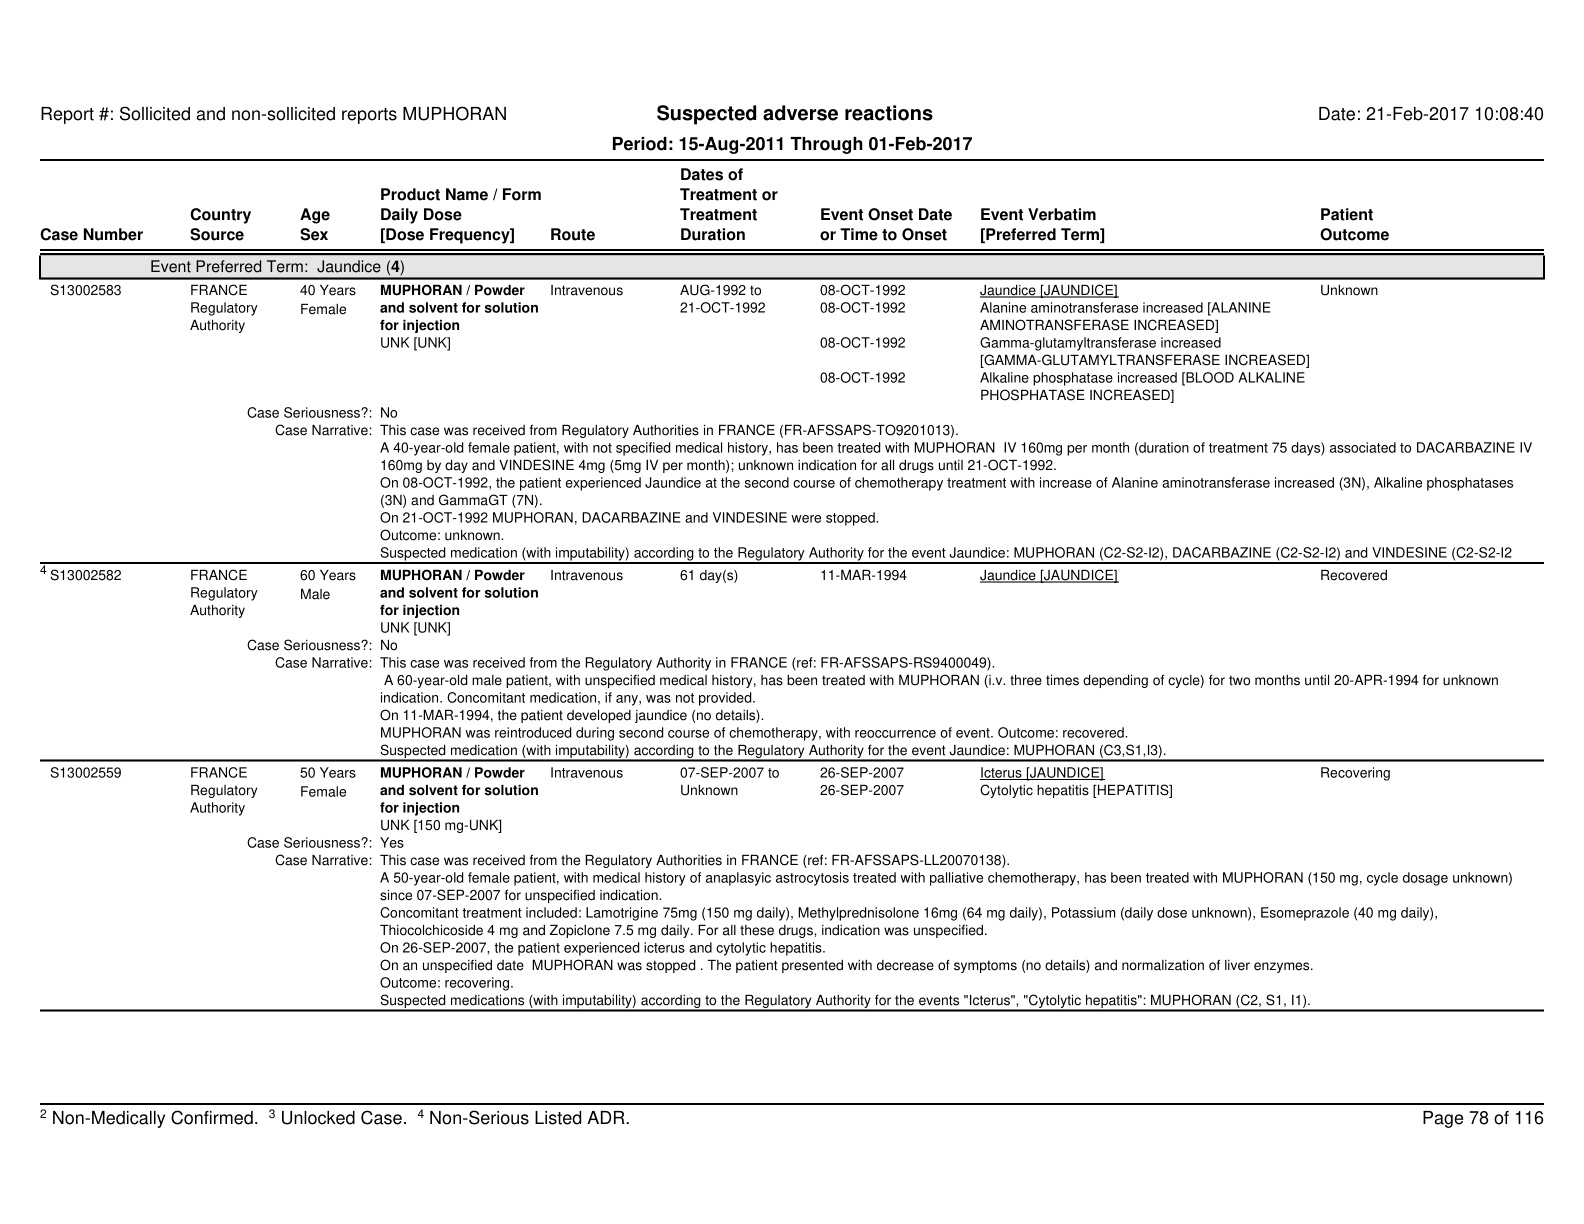partial_lined_merged_cells: (39, 157, 1545, 1013)
